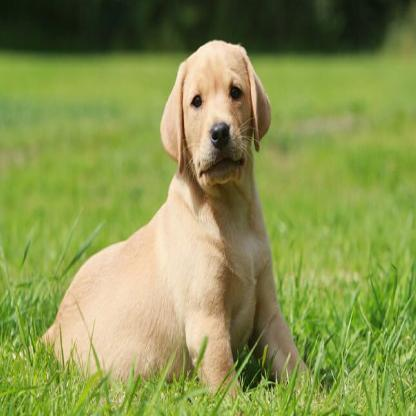Labarador Retriever: (43, 43, 310, 405)
